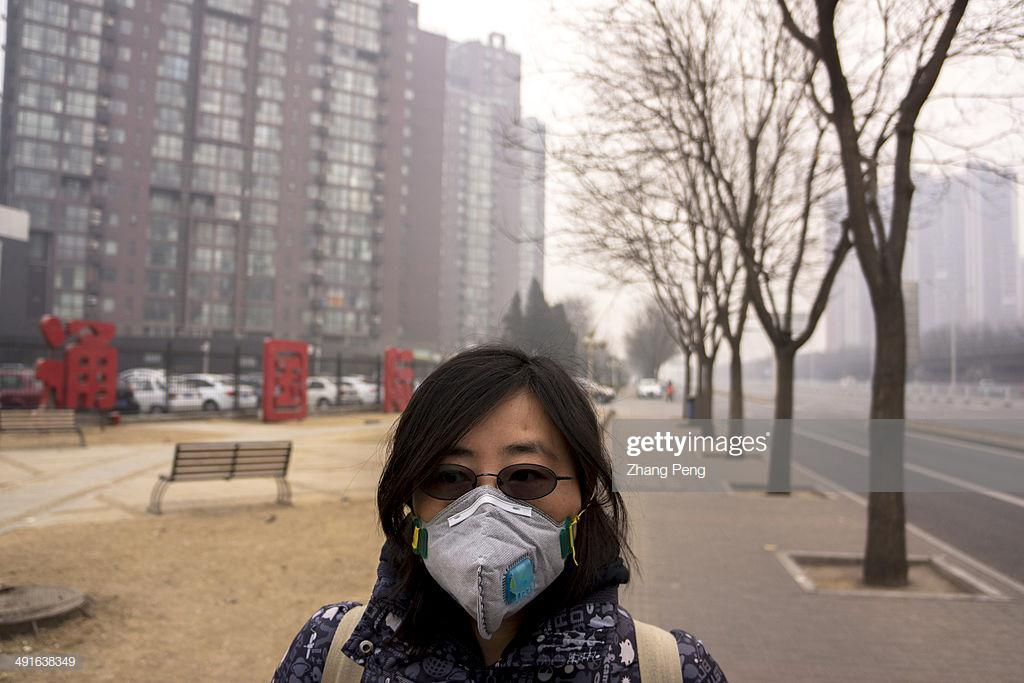mask: (411, 433, 580, 632)
